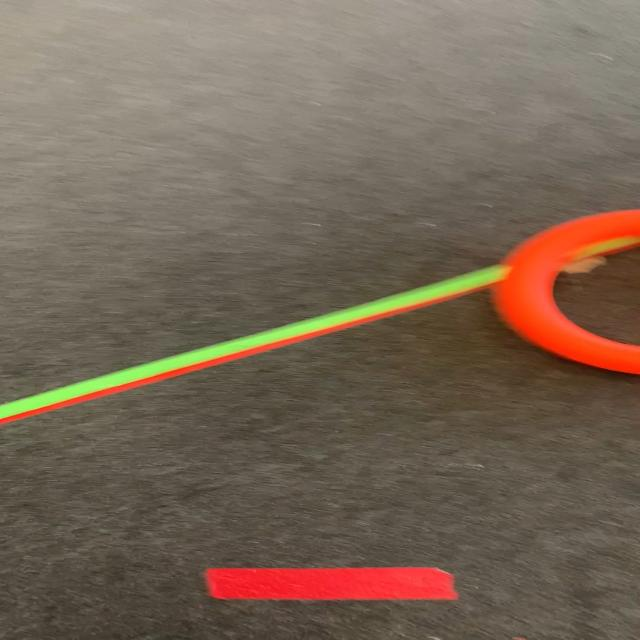notes: (499, 208, 640, 377)
